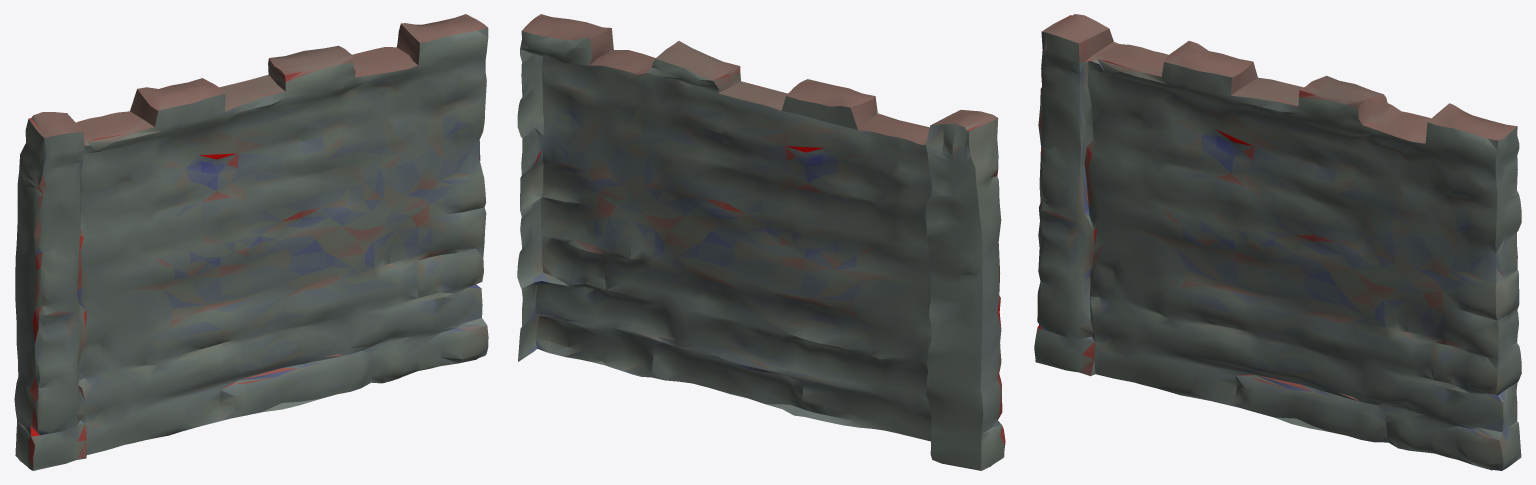
File: Wall_Right.fbx
3 views of the same model, side by side, from view 1: azimuth 30°, elevation 25°; view 2: azimuth 150°, elevation 25°; view 3: azimuth 330°, elevation 25° (orthographic).
Visible parts, largest first — view 1: Wall_Right (2); view 2: Wall_Right (2); view 3: Wall_Right (2).
Part boxes in pixels (left/top/right/bottom): Wall_Right (2): left=14, top=14, right=488, bottom=470; Wall_Right (2): left=517, top=14, right=1005, bottom=470; Wall_Right (2): left=1034, top=14, right=1521, bottom=470.
Bounding box in the file's own units: 813 × 570 × 102.
